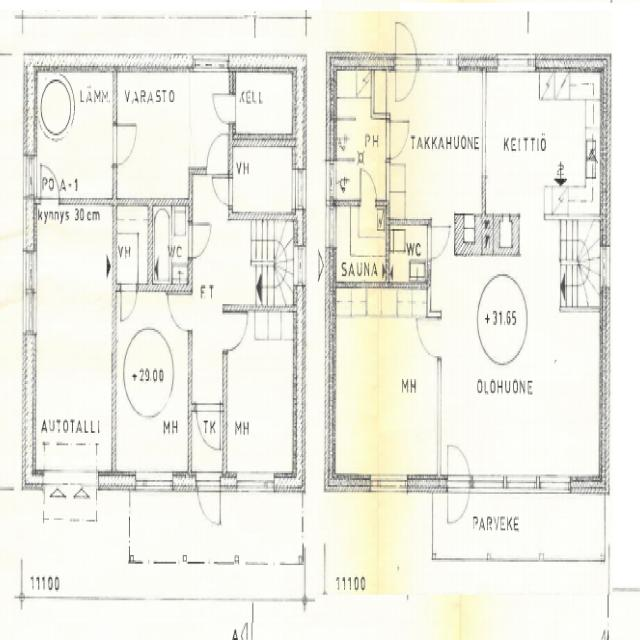door: (197, 470, 220, 533), (447, 475, 470, 533), (447, 435, 470, 493), (395, 15, 417, 72), (395, 53, 417, 110), (112, 126, 138, 165), (198, 404, 220, 450), (207, 130, 227, 174), (223, 316, 247, 352), (386, 122, 410, 158), (169, 295, 192, 330), (418, 320, 441, 355), (40, 164, 59, 204), (427, 226, 449, 259), (188, 224, 210, 256), (212, 94, 235, 123), (360, 170, 377, 207), (213, 178, 233, 205), (121, 284, 136, 319)
